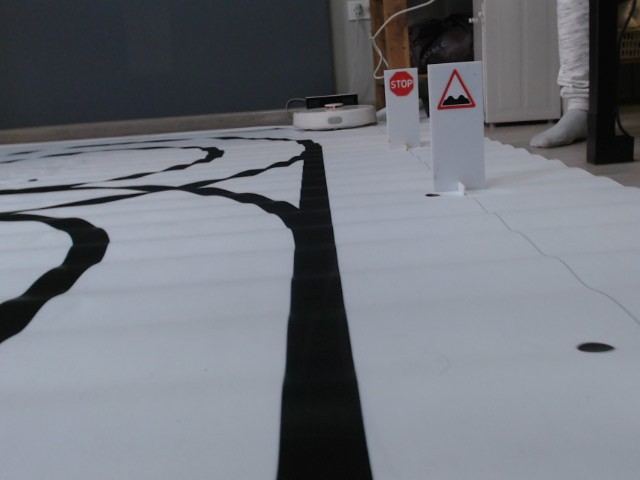Nerov: (438, 69, 477, 111)
